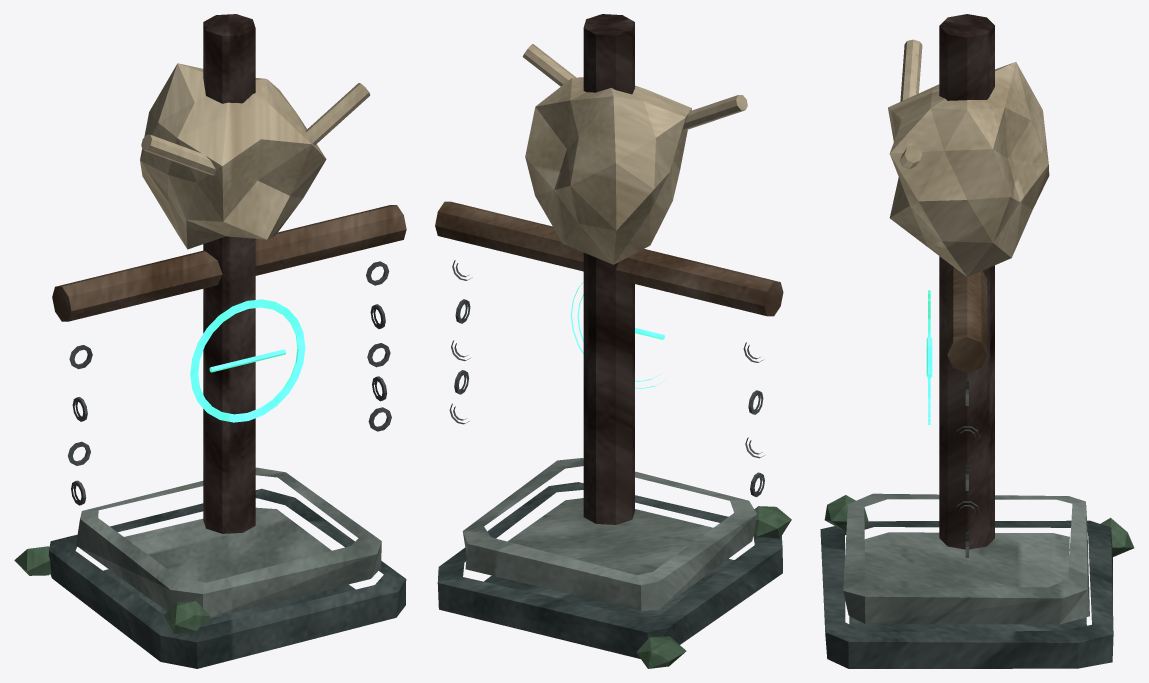
File: 0505_effigy_05.glb
3 renders of one model, left to right at view 1: azimuth 30°, elevation 25°; view 2: azimuth 150°, elevation 25°; view 3: azimuth 270°, elevation 25°, orthographic. The views are drawn at different scales.
Parts seen in each view (by area): view 1: bone, stone, stone_dark, wood_dark, wood, glow, iron, moss; view 2: bone, stone, stone_dark, wood_dark, wood, moss, iron; view 3: bone, stone, stone_dark, wood_dark, wood, moss, glow, iron.
Part boxes in pixels (box(x1,y1,x2,y2)): bone: box(140, 63, 370, 249); stone: box(76, 467, 381, 618); stone_dark: box(48, 488, 406, 668); wood_dark: box(203, 14, 255, 533); wood: box(52, 205, 406, 321); glow: box(190, 299, 305, 422); iron: box(68, 261, 391, 505); moss: box(14, 546, 210, 634); bone: box(522, 44, 747, 264); stone: box(462, 458, 756, 610); stone_dark: box(437, 482, 782, 658); wood_dark: box(583, 14, 634, 524); wood: box(435, 201, 783, 316); moss: box(636, 506, 791, 668); iron: box(449, 260, 764, 496); bone: box(888, 39, 1049, 276); stone: box(843, 493, 1089, 624); stone_dark: box(820, 520, 1113, 668); wood_dark: box(939, 14, 994, 549); wood: box(947, 267, 987, 372); moss: box(824, 495, 1134, 556); glow: box(926, 290, 932, 424); iron: box(954, 380, 980, 557).
Bounding box in the file's own units: 2 × 3.26 × 1.58.
Materials: 8 (8 with a texture image).
